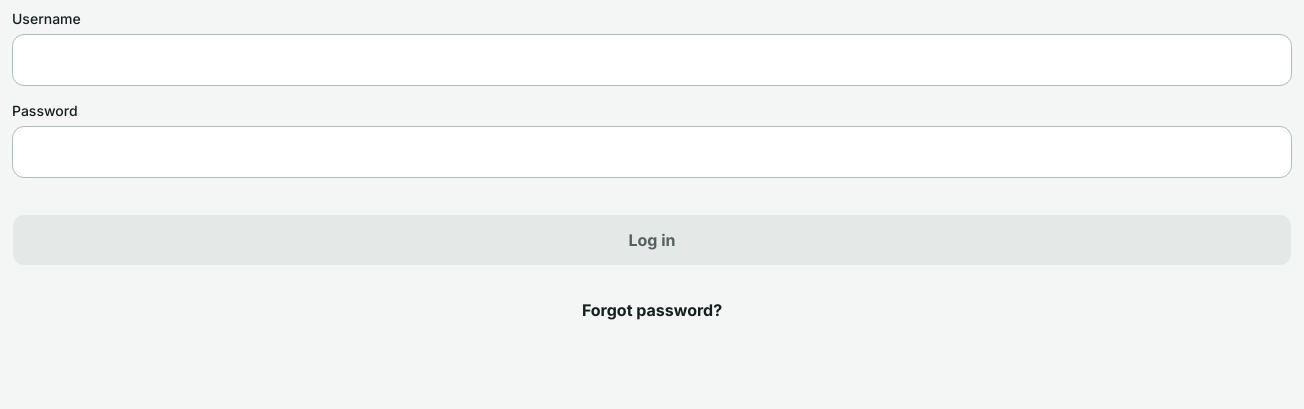
Test: LoginForm › shows how many minutes the device must wait (BR-14)
Type "bb-4k7q2m" into the field labelled "Username" at (652, 60), box [12,34,1292,86]
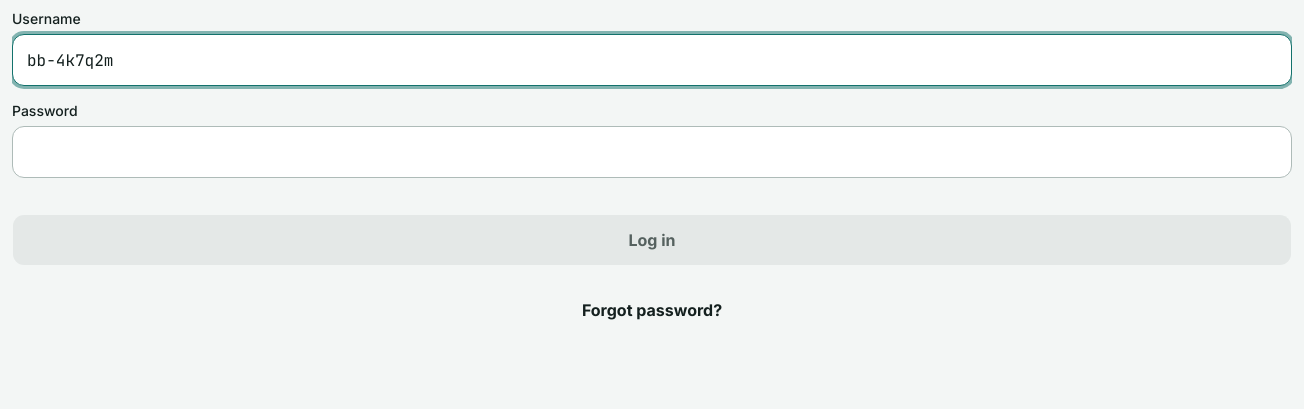
Type "wrong-password" into the password field labelled "Password" at (652, 152), box [12,126,1292,178]
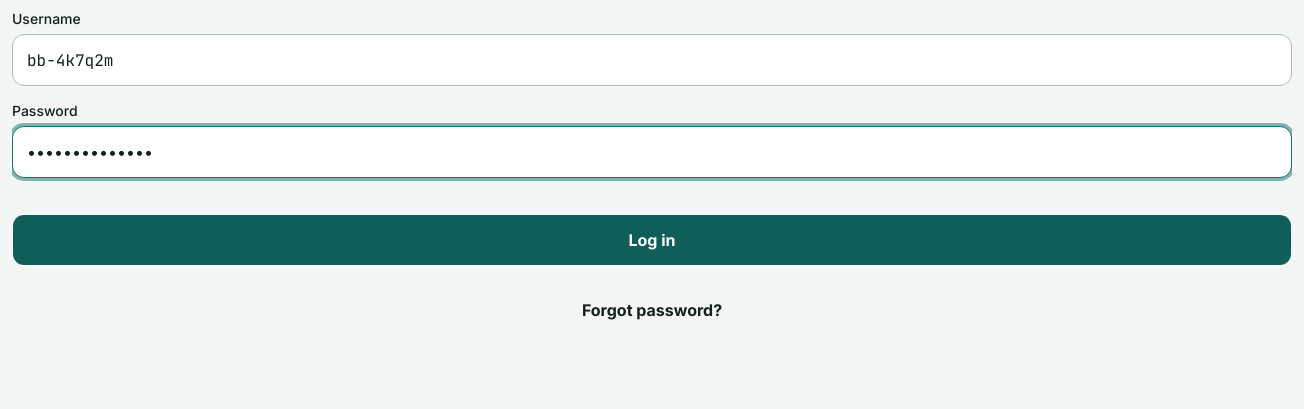
Click the button "Log in" at (652, 240), box [12,214,1292,266]
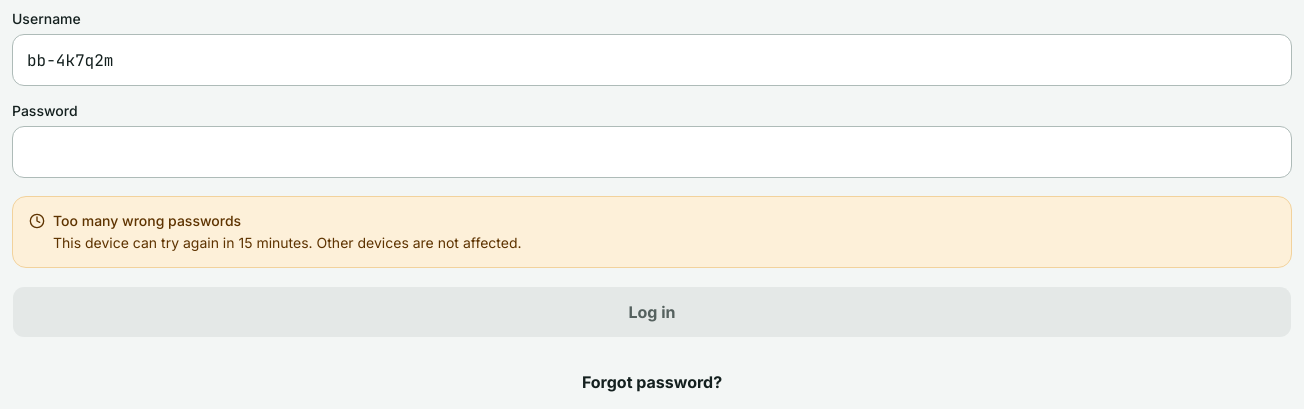
Result: the text "Too many wrong passwords" is shown at [53,212,241,229]
Result: the text "can try again in 15 minutes" is shown at [53,234,522,251]
